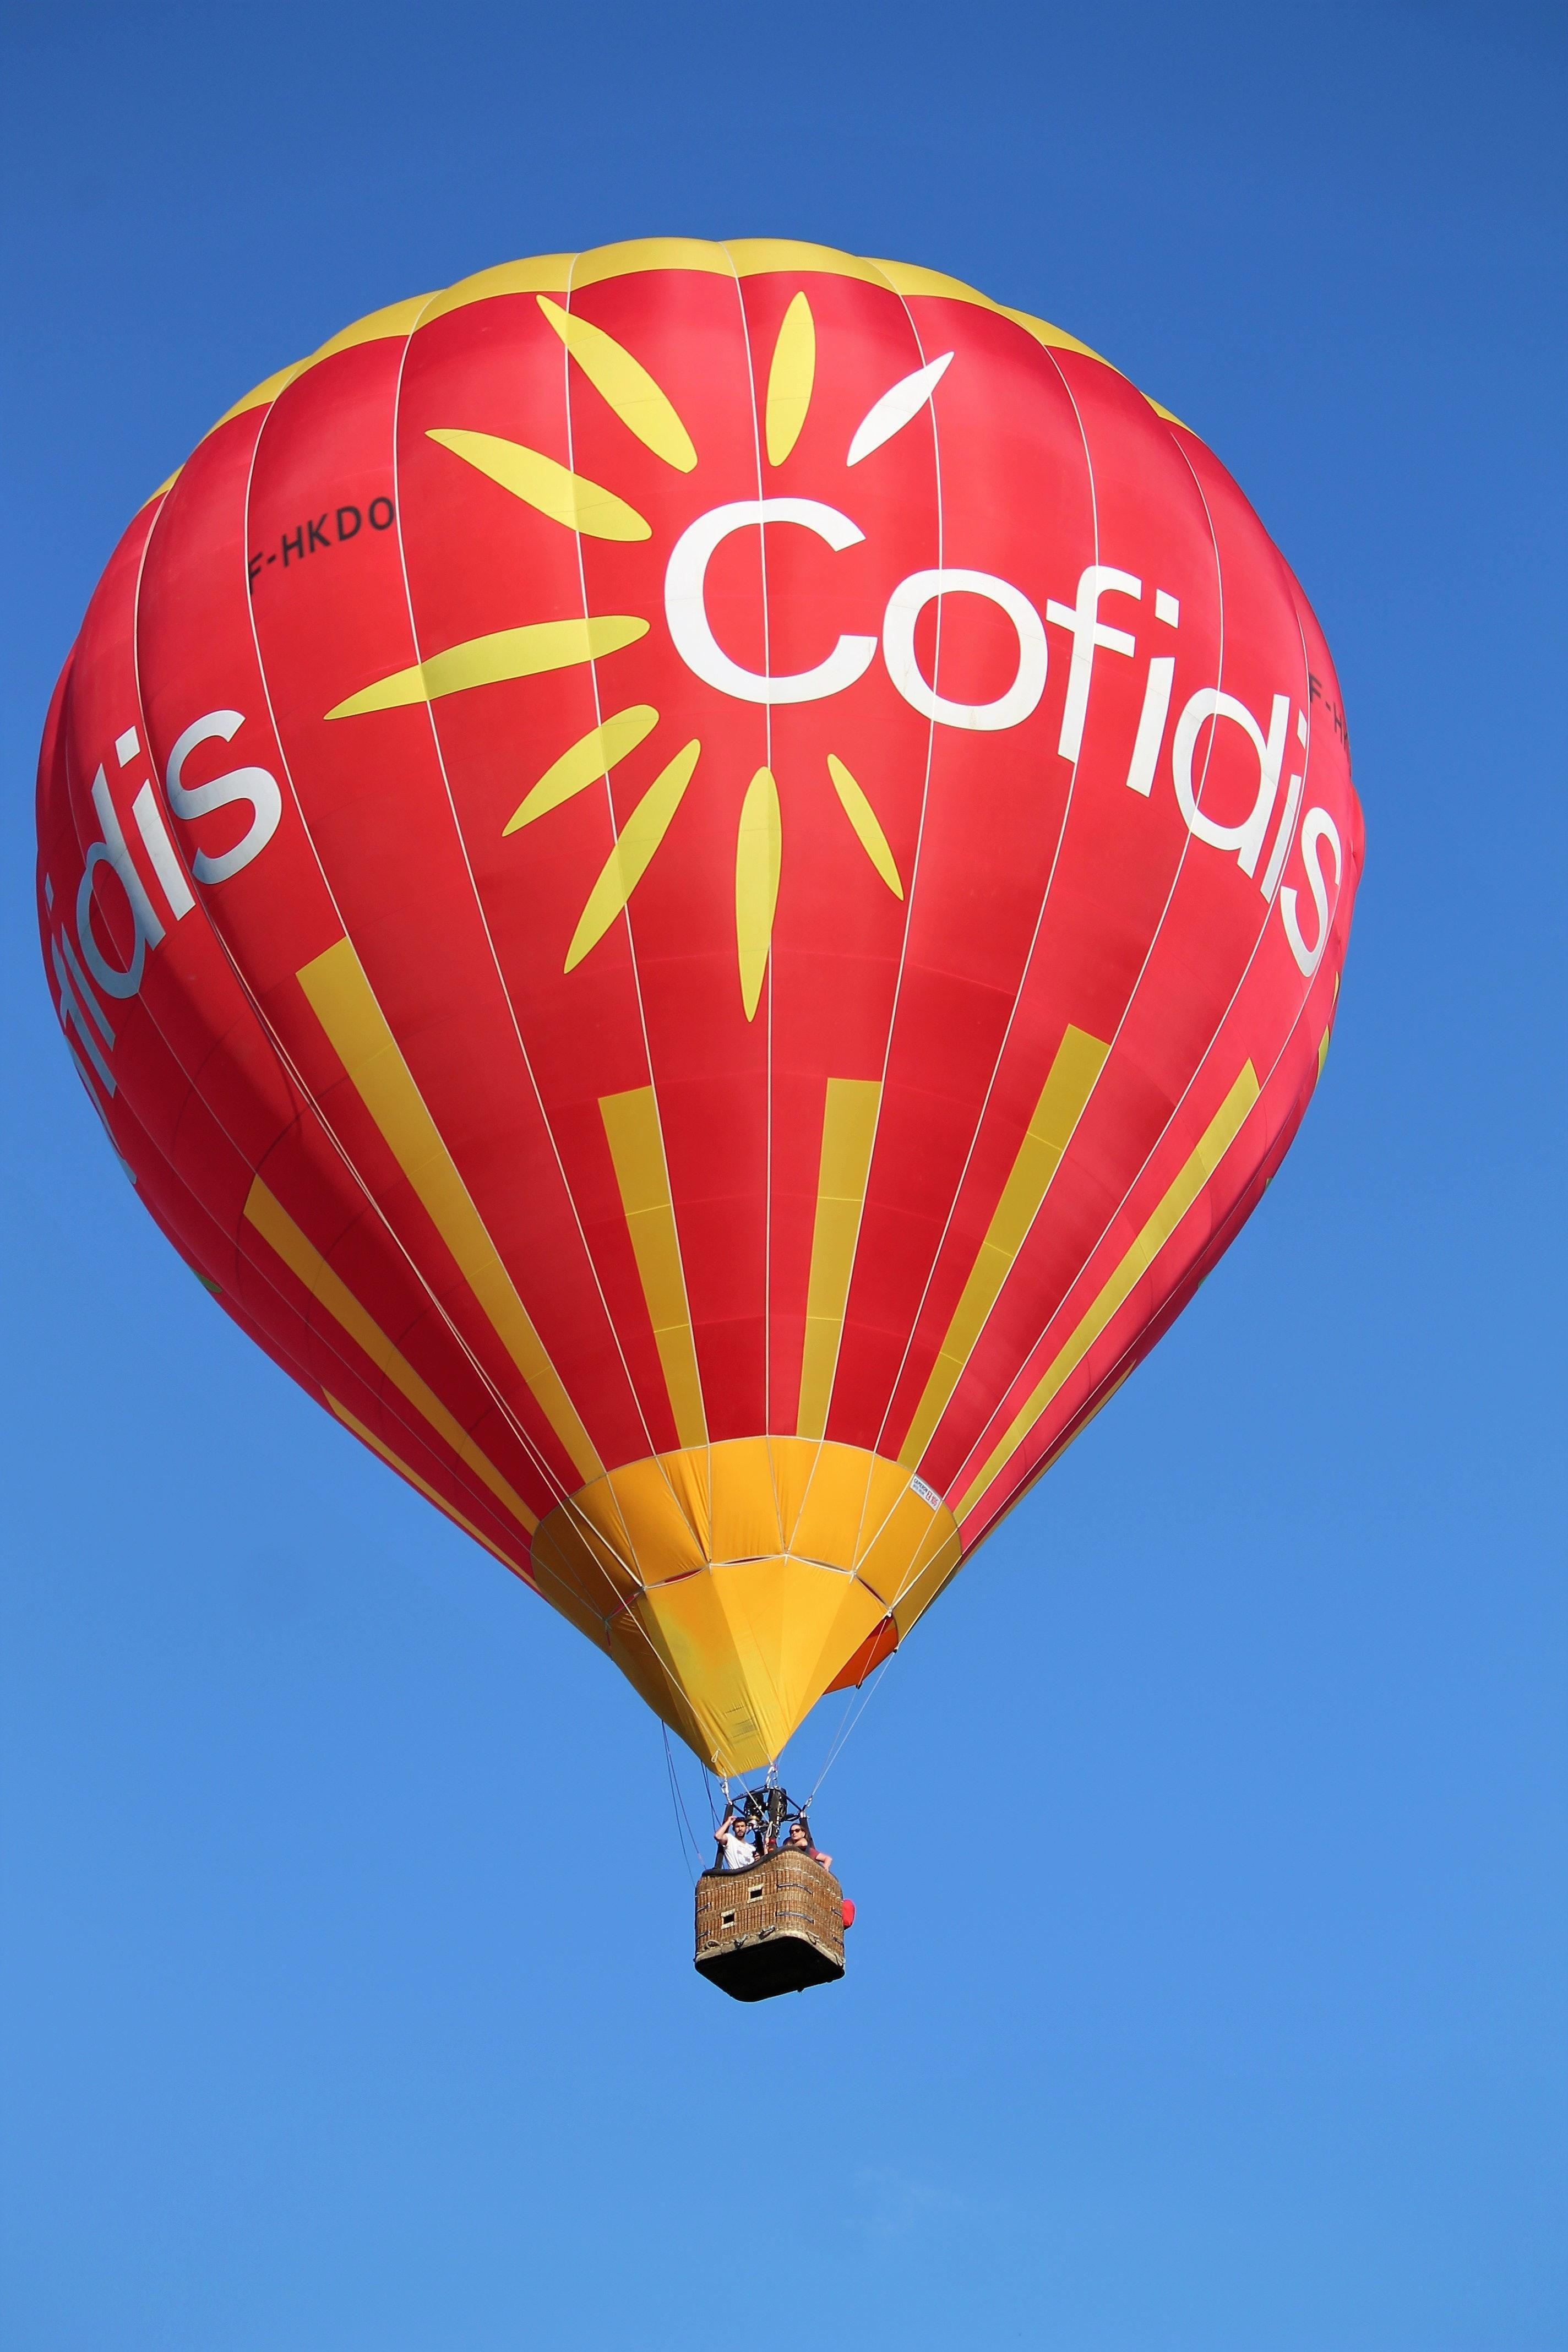hot air ballon: (37, 236, 1363, 2009)
